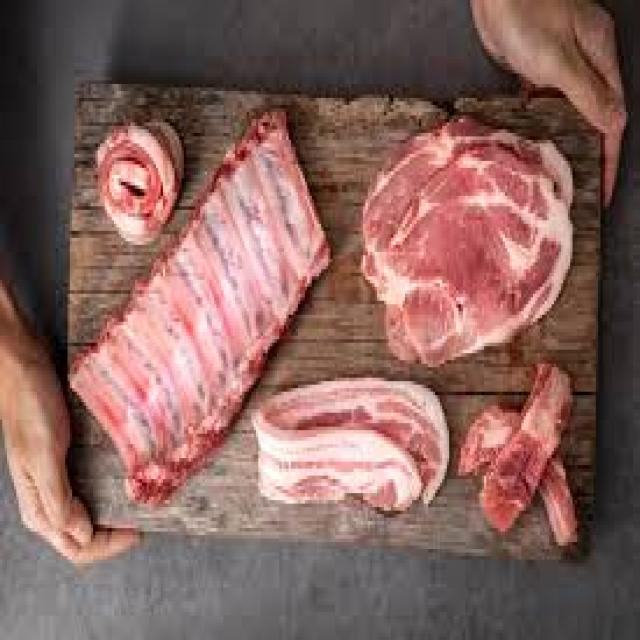Pork: (363, 115, 575, 365), (254, 378, 451, 514)
